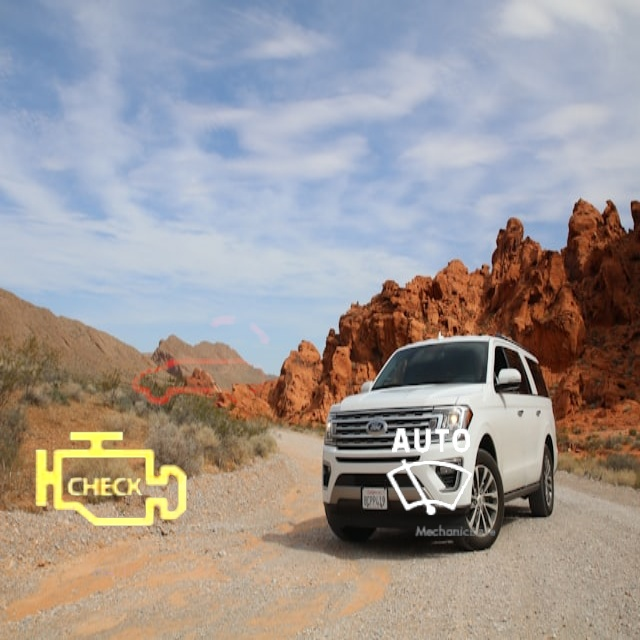symbol: (0, 370, 220, 590), (96, 255, 309, 468), (361, 403, 501, 543)
